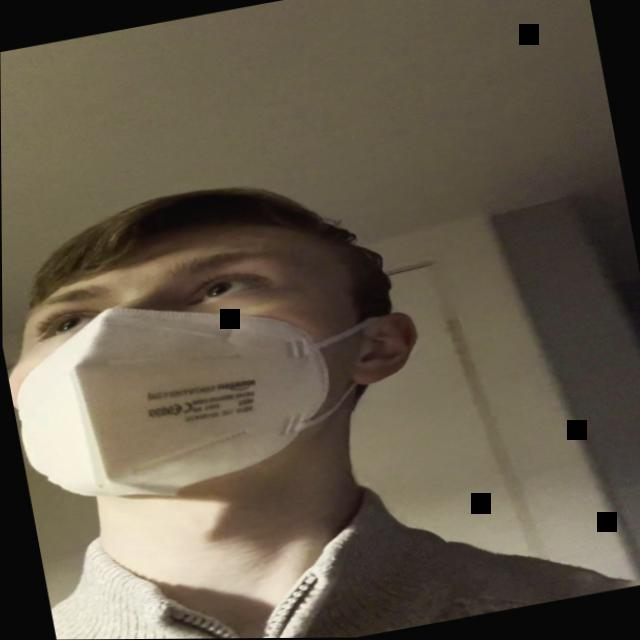Mask: (1, 196, 371, 517)
